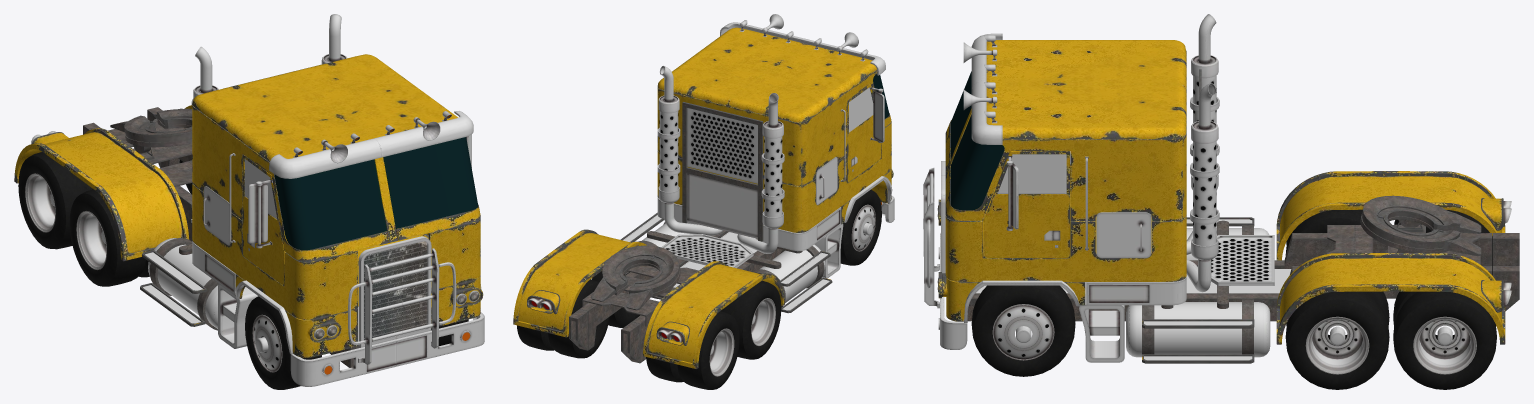
Rendered from cabover-hornet.glb.
3 renders of one model, left to right at view 1: azimuth 30°, elevation 25°; view 2: azimuth 150°, elevation 25°; view 3: azimuth 270°, elevation 25°, orthographic. The views are drawn at different scales.
Visible parts, largest first — view 1: truck_main_body, chrome_pieces, rear_wheel_set_2_R, rear_wheel_set_1_R, front_right_tire; view 2: truck_main_body, chrome_pieces, rear_wheel_set_2_R, rear_wheel_set_1_R, front_right_tire, rear_wheel_set_2_L, rear_wheel_set_1_L; view 3: truck_main_body, chrome_pieces, rear_wheel_set_1_L, rear_wheel_set_2_L, front_left_tire, rear_wheel_set_1_R.
Part boxes in pixels (x1=…): truck_main_body: x1=14, y1=54, x2=483, y2=367; chrome_pieces: x1=143, y1=14, x2=484, y2=386; rear_wheel_set_2_R: x1=18, y1=152, x2=92, y2=249; rear_wheel_set_1_R: x1=69, y1=189, x2=149, y2=286; front_right_tire: x1=245, y1=296, x2=321, y2=389; truck_main_body: x1=513, y1=27, x2=893, y2=368; chrome_pieces: x1=623, y1=14, x2=894, y2=310; rear_wheel_set_2_R: x1=646, y1=311, x2=739, y2=389; rear_wheel_set_1_R: x1=721, y1=280, x2=781, y2=359; front_right_tire: x1=840, y1=189, x2=881, y2=265; rear_wheel_set_2_L: x1=517, y1=279, x2=609, y2=358; rear_wheel_set_1_L: x1=591, y1=271, x2=639, y2=327; truck_main_body: x1=938, y1=40, x2=1519, y2=363; chrome_pieces: x1=923, y1=14, x2=1291, y2=362; rear_wheel_set_1_L: x1=1285, y1=291, x2=1389, y2=389; rear_wheel_set_2_L: x1=1393, y1=291, x2=1496, y2=389; front_left_tire: x1=971, y1=285, x2=1075, y2=376; rear_wheel_set_1_R: x1=1285, y1=209, x2=1362, y2=255.
Size of the model in its own units: 4.75 by 5.27 by 10.02.
Materials: 3 (3 with a texture image).
